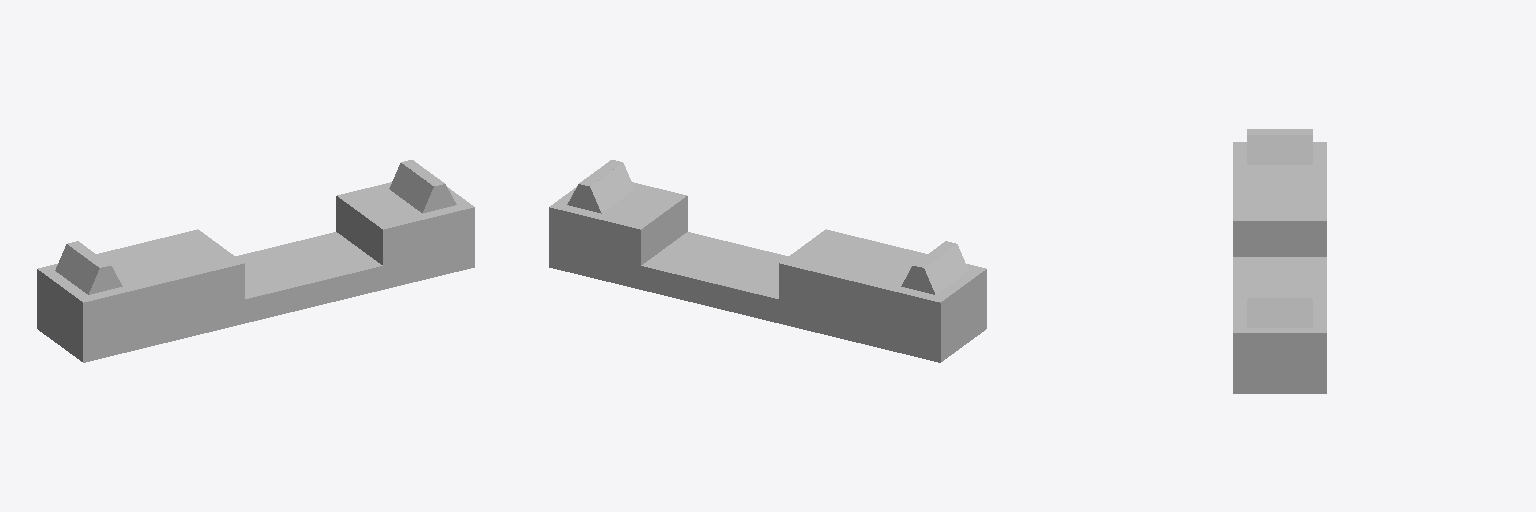
File: GunSlide for real this time.obj
3 views of the same model, side by side, from view 1: azimuth 30°, elevation 25°; view 2: azimuth 150°, elevation 25°; view 3: azimuth 270°, elevation 25° (orthographic).
Visible parts, largest first — view 1: Gunslide1; view 2: Gunslide1; view 3: Gunslide1.
Boxes of the visible parts, x1=… form: Gunslide1: x1=37, y1=160, x2=474, y2=362; Gunslide1: x1=549, y1=160, x2=986, y2=362; Gunslide1: x1=1233, y1=129, x2=1326, y2=393.
Size of the model in its own units: 1.7 by 0.35 by 0.35.